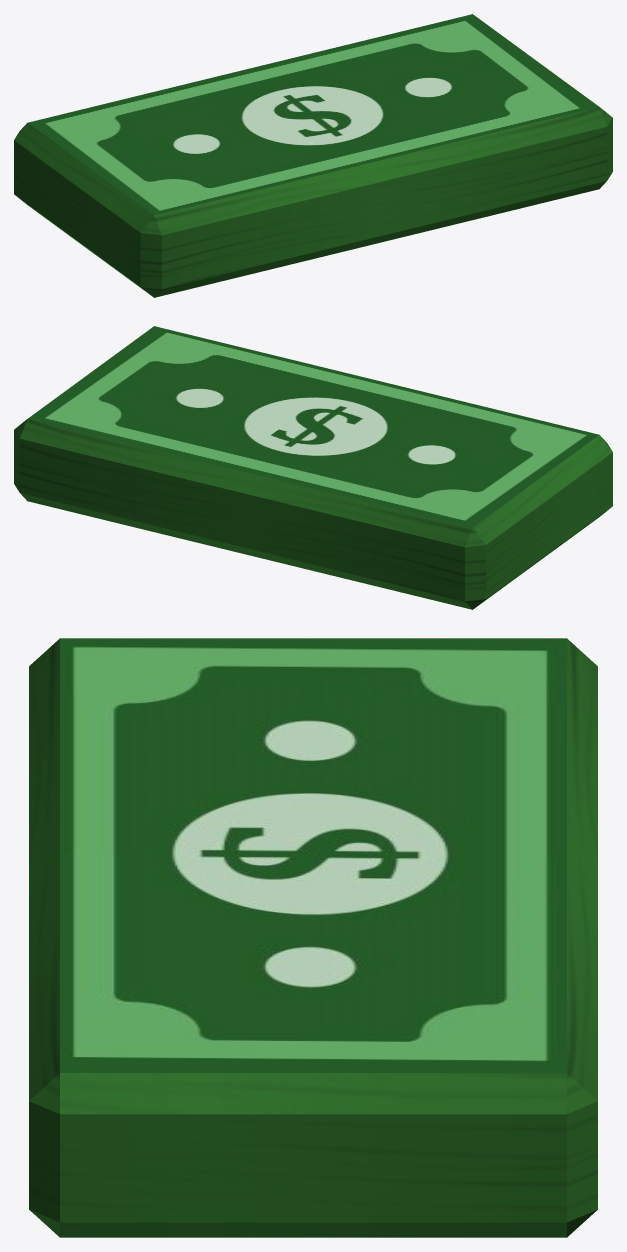
The model's file is Dollar.fbx.
3 renders of one model, top to bottom at view 1: azimuth 30°, elevation 25°; view 2: azimuth 150°, elevation 25°; view 3: azimuth 270°, elevation 25°, orthographic. The views are drawn at different scales.
Visible parts, largest first — view 1: Dollar; view 2: Dollar; view 3: Dollar.
Part boxes in pixels (x1,y1,x2,y2): Dollar: [14, 14, 612, 297]; Dollar: [14, 326, 612, 609]; Dollar: [29, 638, 597, 1237].
Bounding box in the file's own units: 0.6 × 0.1 × 0.3132.
